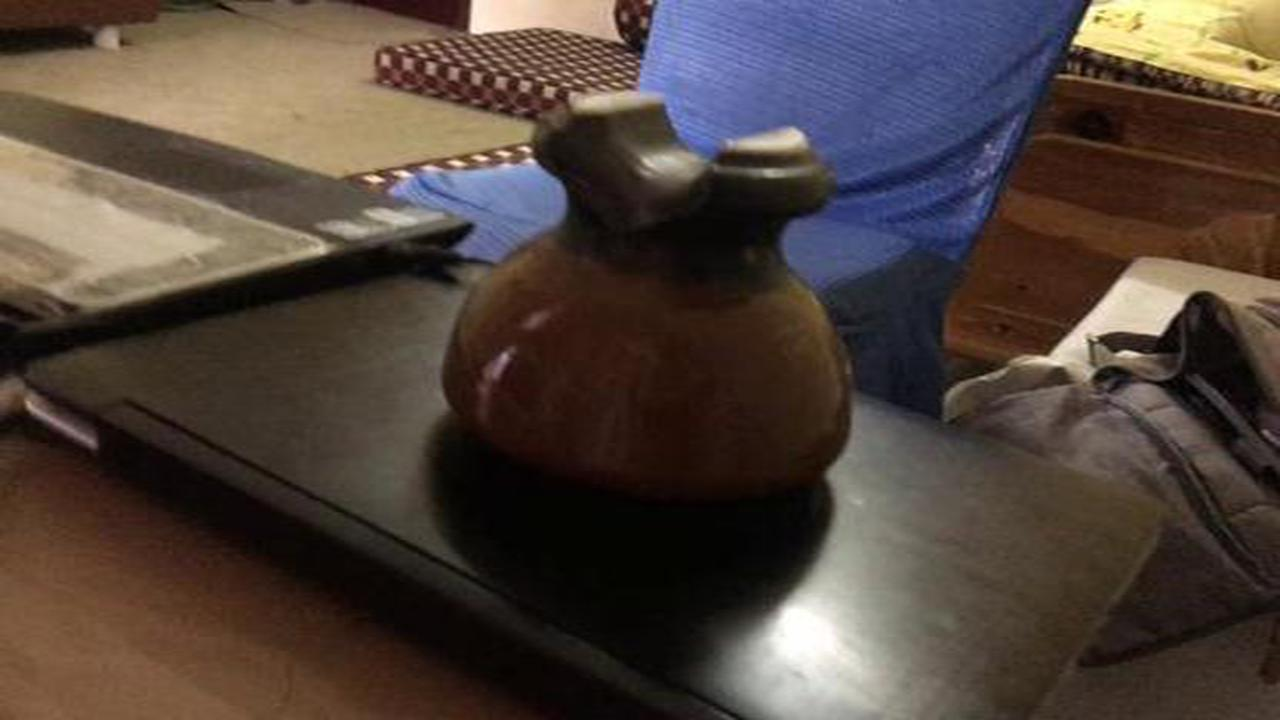insulator_pin: (418, 75, 893, 525)
